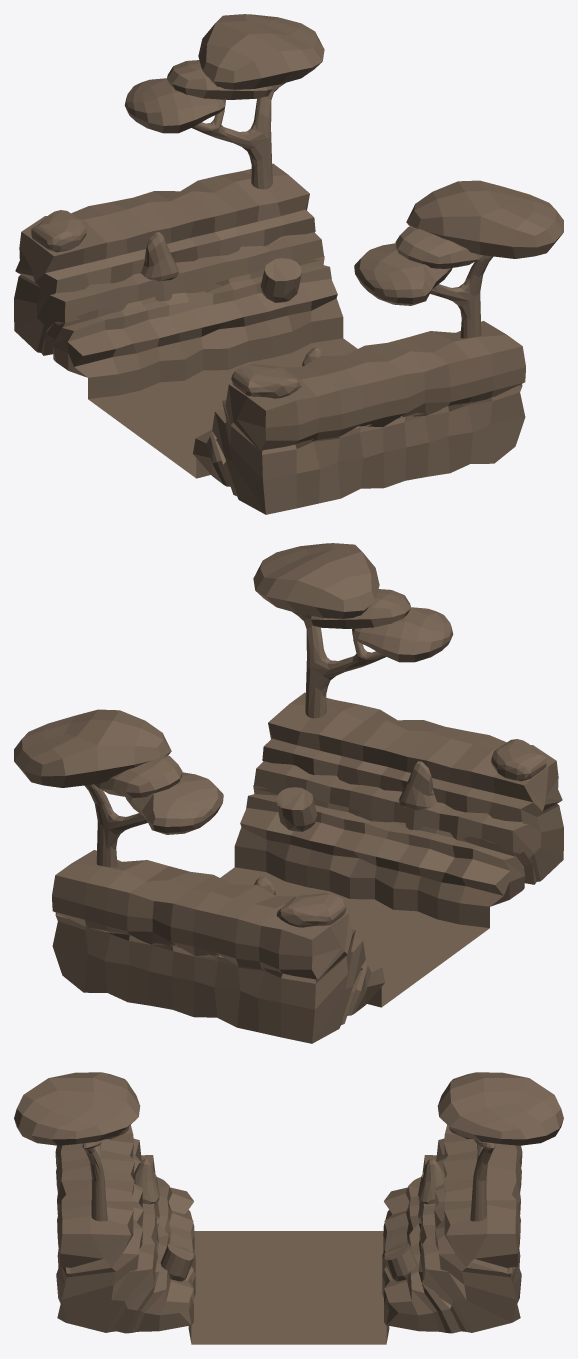
The model's file is greenravine3.fbx.
The picture shows the model from 3 angles, top to bottom: view 1: azimuth 30°, elevation 25°; view 2: azimuth 150°, elevation 25°; view 3: azimuth 270°, elevation 25°; orthographic projection. The views are drawn at different scales.
Visible parts, largest first — view 1: greenravine3; view 2: greenravine3; view 3: greenravine3.
Part boxes in pixels (x1,y1,x2,y2): greenravine3: [14, 14, 563, 514]; greenravine3: [14, 543, 563, 1043]; greenravine3: [14, 1072, 563, 1344].
Bounding box in the file's own units: 1562 × 1362 × 2709.
